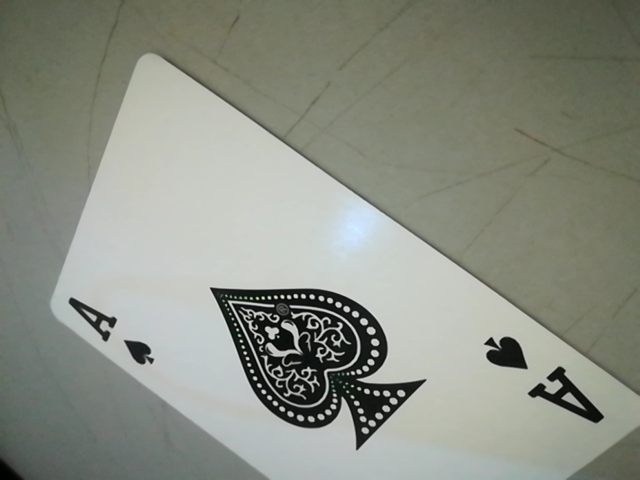ht a: (47, 293, 173, 377)
